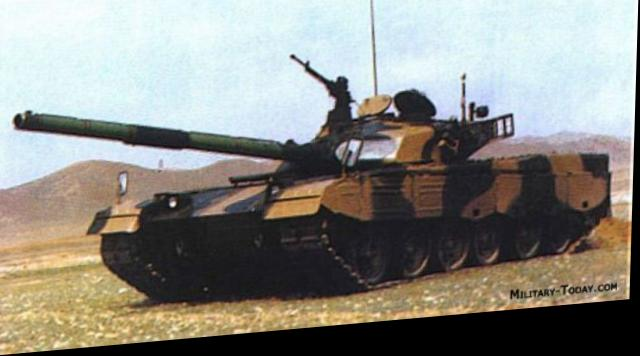tank: (104, 77, 611, 291)
